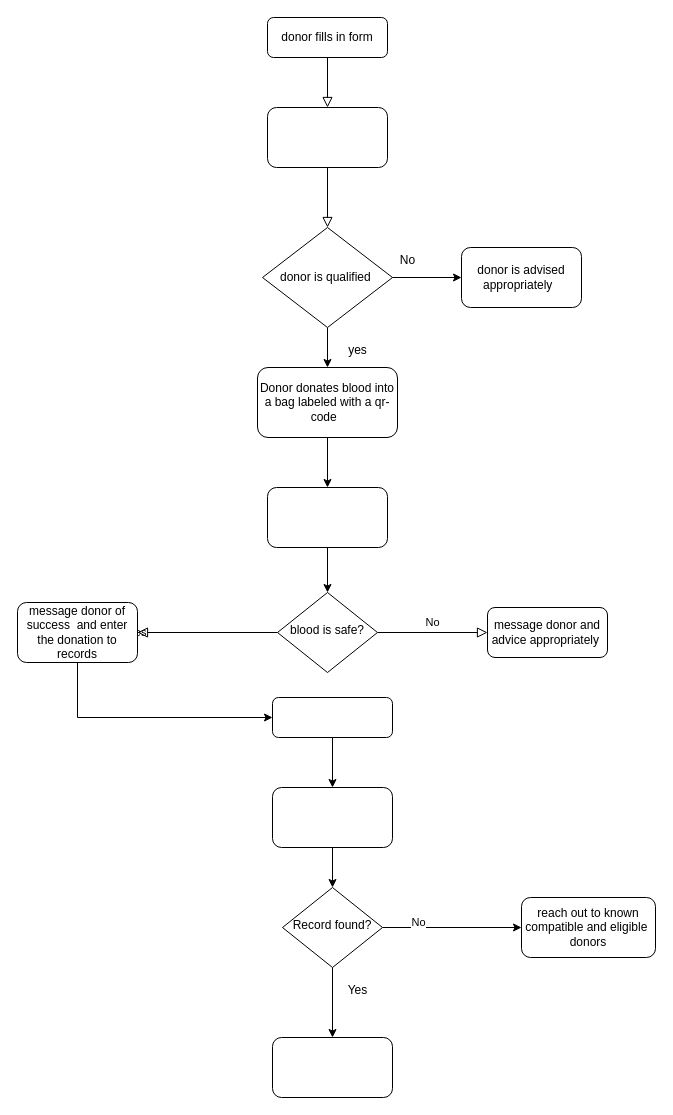
Image size: 673x1115. Some labels were removed from this diagram. The box of each missing label's shape, as (x1, y1, x2, y2) in pixels:
blood screening: (266, 486, 388, 548)
doctor reviews the information: (266, 106, 388, 168)
get, scan, use and message the donor on use: (272, 1036, 392, 1098)
need arises: (272, 696, 392, 738)
search in records: (272, 786, 392, 848)
